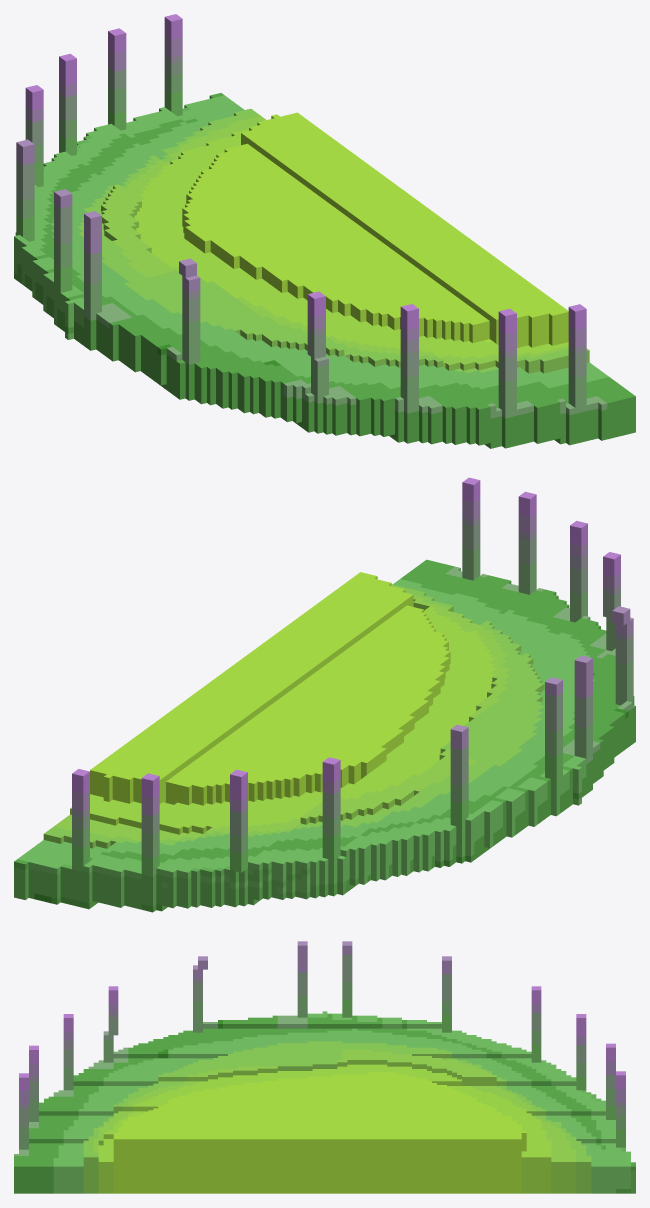
File: trap_R.FBX
3 renders of one model, top to bottom at view 1: azimuth 30°, elevation 25°; view 2: azimuth 150°, elevation 25°; view 3: azimuth 270°, elevation 25°, orthographic. The views are drawn at different scales.
Parts seen in each view (by area): view 1: default043; view 2: default043; view 3: default043.
Boxes of the visible parts, left/top/right/bottom form: default043: left=14, top=14, right=635, bottom=448; default043: left=14, top=477, right=635, bottom=912; default043: left=14, top=941, right=635, bottom=1193.
Bounding box in the file's own units: 799 × 343 × 1586.
